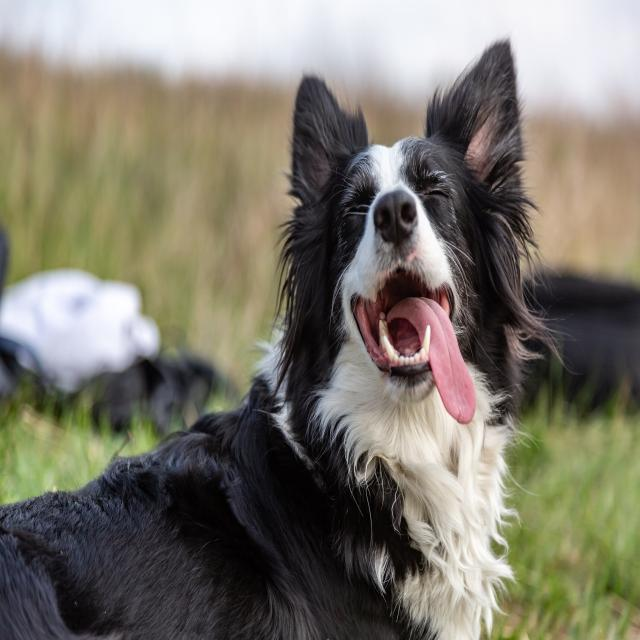ALASKAN_MALAMUTE: (0, 26, 543, 639)
